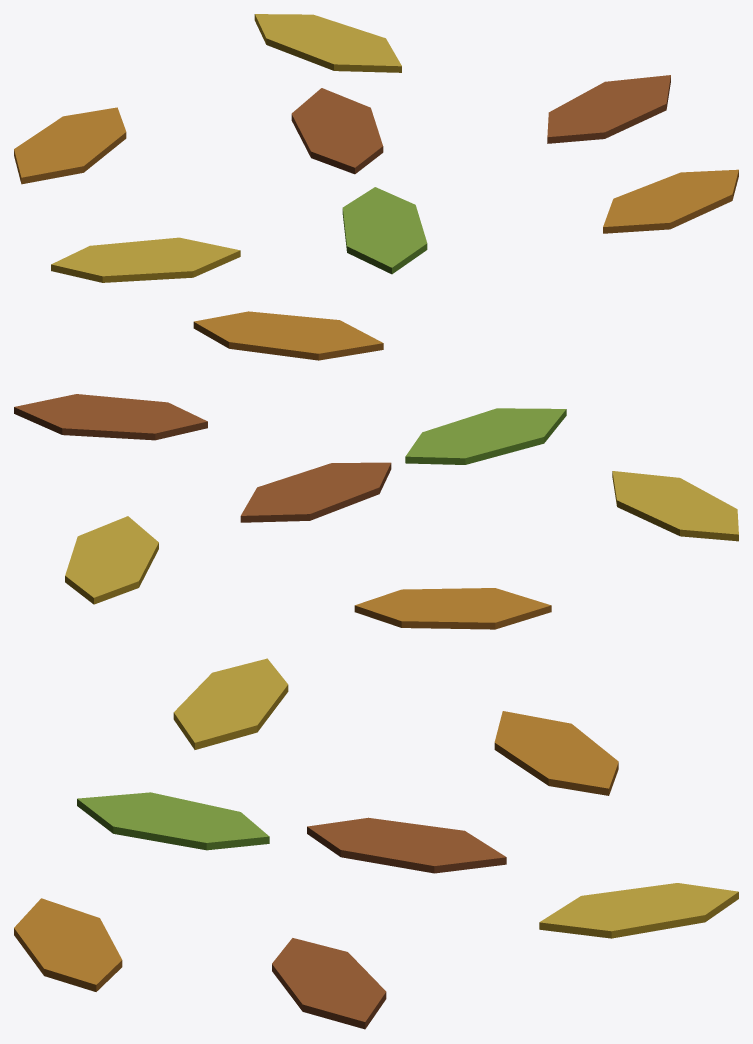
The model's file is fallen_leaves.fbx.
The picture shows the model from 3 angles, top to bottom: view 1: azimuth 30°, elevation 25°; view 2: azimuth 150°, elevation 25°; view 3: azimuth 270°, elevation 25°; orthographic projection. The views are drawn at different scales.
Visible parts, largest first — view 1: fallen_leaves; view 2: fallen_leaves; view 3: fallen_leaves.
Part boxes in pixels (x1,y1,x2,y2): fallen_leaves: [14, 14, 738, 282]; fallen_leaves: [14, 311, 738, 629]; fallen_leaves: [14, 658, 738, 1029].
Size of the model in its own units: 0.4187 by 0.013 by 0.3581.
